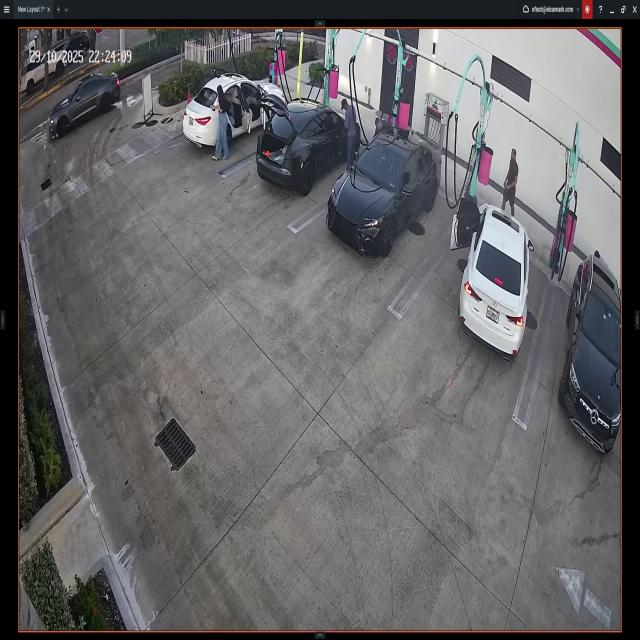Car: (322, 130, 441, 268), (454, 198, 534, 357), (566, 251, 622, 452), (258, 98, 359, 192), (182, 71, 287, 157), (48, 70, 121, 140)
